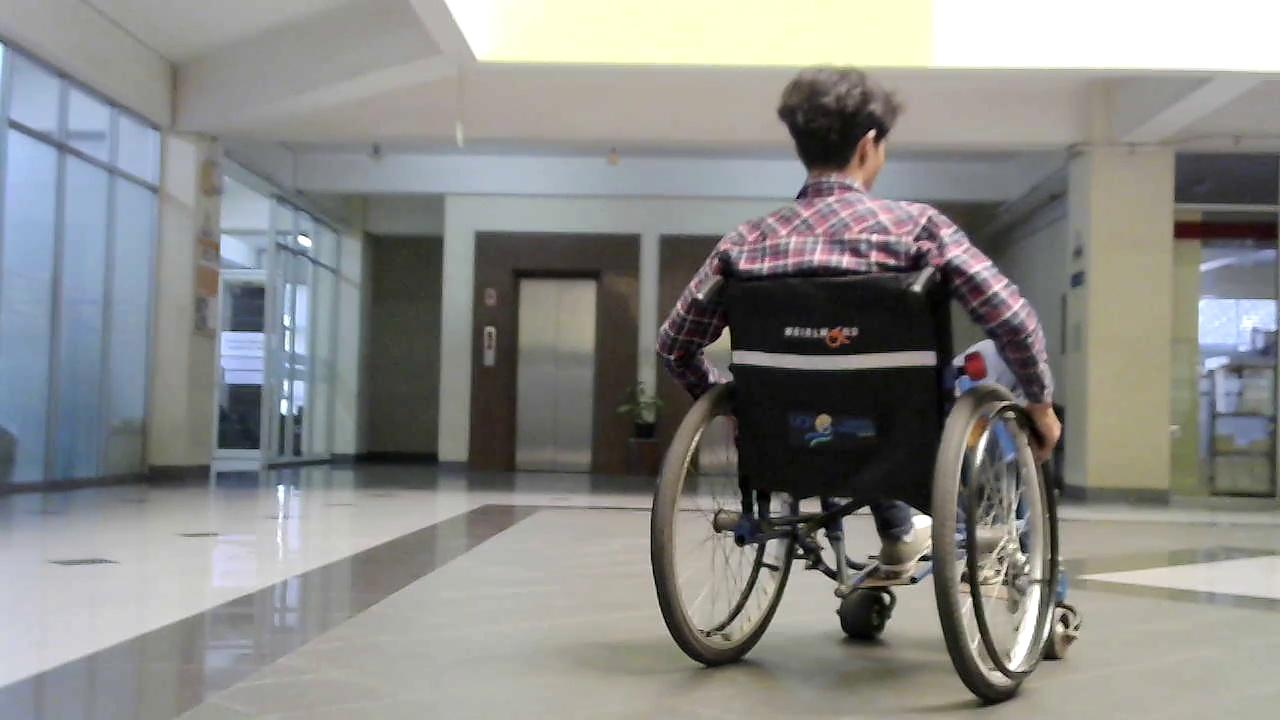person: (654, 68, 1065, 592)
wheelchair: (630, 255, 1111, 715)
